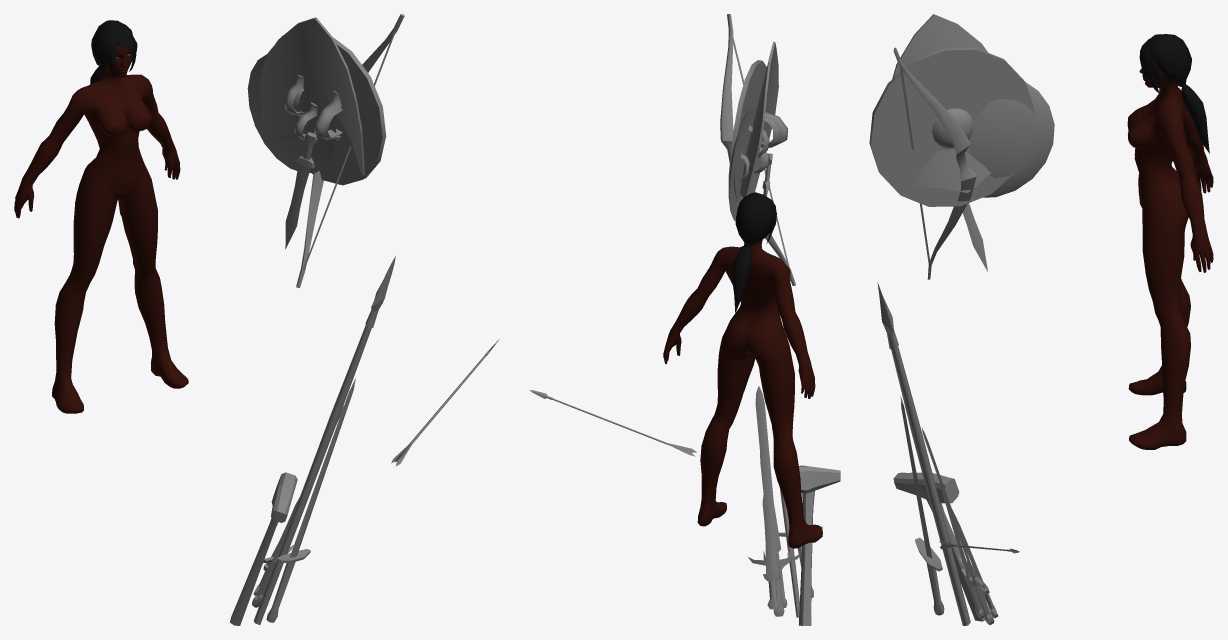
Rendered from uytuytituiot.fbx.
3 views of the same model, side by side, from view 1: azimuth 30°, elevation 25°; view 2: azimuth 150°, elevation 25°; view 3: azimuth 270°, elevation 25° (orthographic). The views are drawn at different scales.
Visible parts, largest first — view 1: AmazonBezerker, Shield03, Shield02, Spear, Shield01, Hammer, Longsword, Bow, Gladius02; view 2: AmazonBezerker, Shield03, Hammer, Shield02, Bow, Broadsword02, Shield01, Gladius, Spear, Arrow; view 3: AmazonBezerker, Shield02, Shield01, Shield03, Spear, Bow, Hammer, Longsword, Broadsword02, Broadsword, Gladius02, Gladius.
Part boxes in pixels (left/top/right/bottom): AmazonBezerker: left=14, top=20, right=188, bottom=413; Shield03: left=259, top=17, right=364, bottom=175; Shield02: left=268, top=35, right=386, bottom=185; Spear: left=253, top=256, right=395, bottom=624; Shield01: left=247, top=53, right=336, bottom=172; Hammer: left=230, top=472, right=297, bottom=625; Longsword: left=266, top=378, right=355, bottom=622; Bow: left=296, top=14, right=404, bottom=287; Gladius02: left=285, top=132, right=317, bottom=249; AmazonBezerker: left=663, top=192, right=822, bottom=548; Shield03: left=740, top=41, right=787, bottom=197; Hammer: left=798, top=465, right=840, bottom=625; Shield02: left=730, top=60, right=779, bottom=202; Bow: left=720, top=14, right=795, bottom=285; Broadsword02: left=748, top=386, right=800, bottom=616; Shield01: left=728, top=106, right=769, bottom=221; Gladius: left=762, top=477, right=780, bottom=609; Spear: left=771, top=425, right=799, bottom=617; Arrow: left=530, top=390, right=696, bottom=456; AmazonBezerker: left=1127, top=34, right=1213, bottom=449; Shield02: left=869, top=47, right=1034, bottom=206; Shield01: left=969, top=82, right=1054, bottom=197; Shield03: left=892, top=14, right=991, bottom=193; Spear: left=877, top=282, right=970, bottom=625; Bow: left=893, top=47, right=976, bottom=279; Hammer: left=893, top=472, right=984, bottom=621; Longsword: left=900, top=396, right=944, bottom=615; Broadsword02: left=922, top=428, right=994, bottom=624; Broadsword: left=937, top=472, right=984, bottom=618; Gladius02: left=962, top=203, right=987, bottom=271; Gladius: left=952, top=509, right=998, bottom=618.
Bounding box in the file's own units: 201 × 294 × 144.
Materials: 3 (3 with a texture image).
